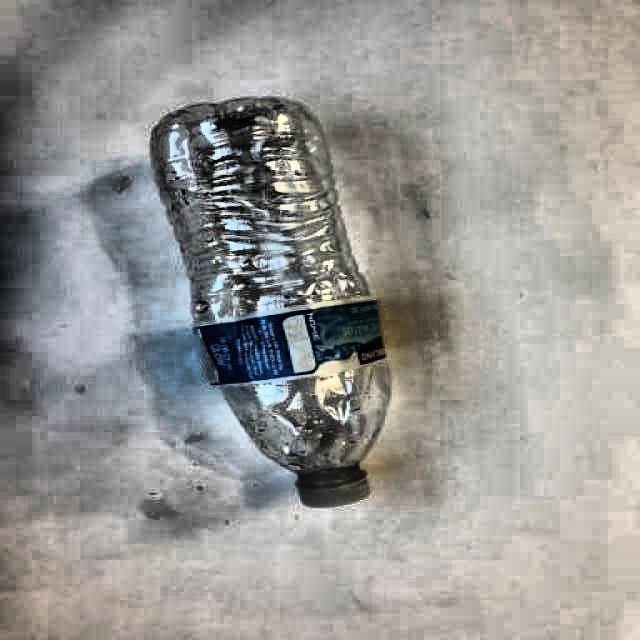plastic: (151, 98, 390, 506)
